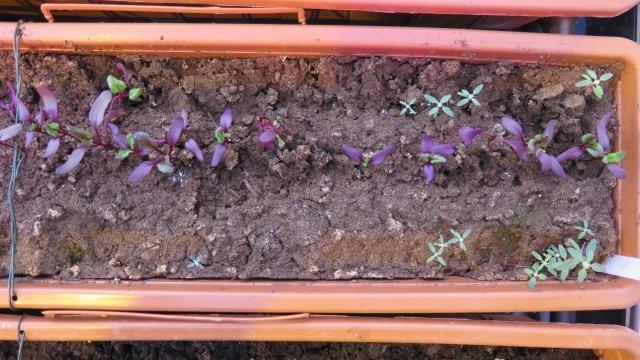weed: (567, 67, 614, 101), (452, 81, 485, 107), (391, 95, 417, 117)
